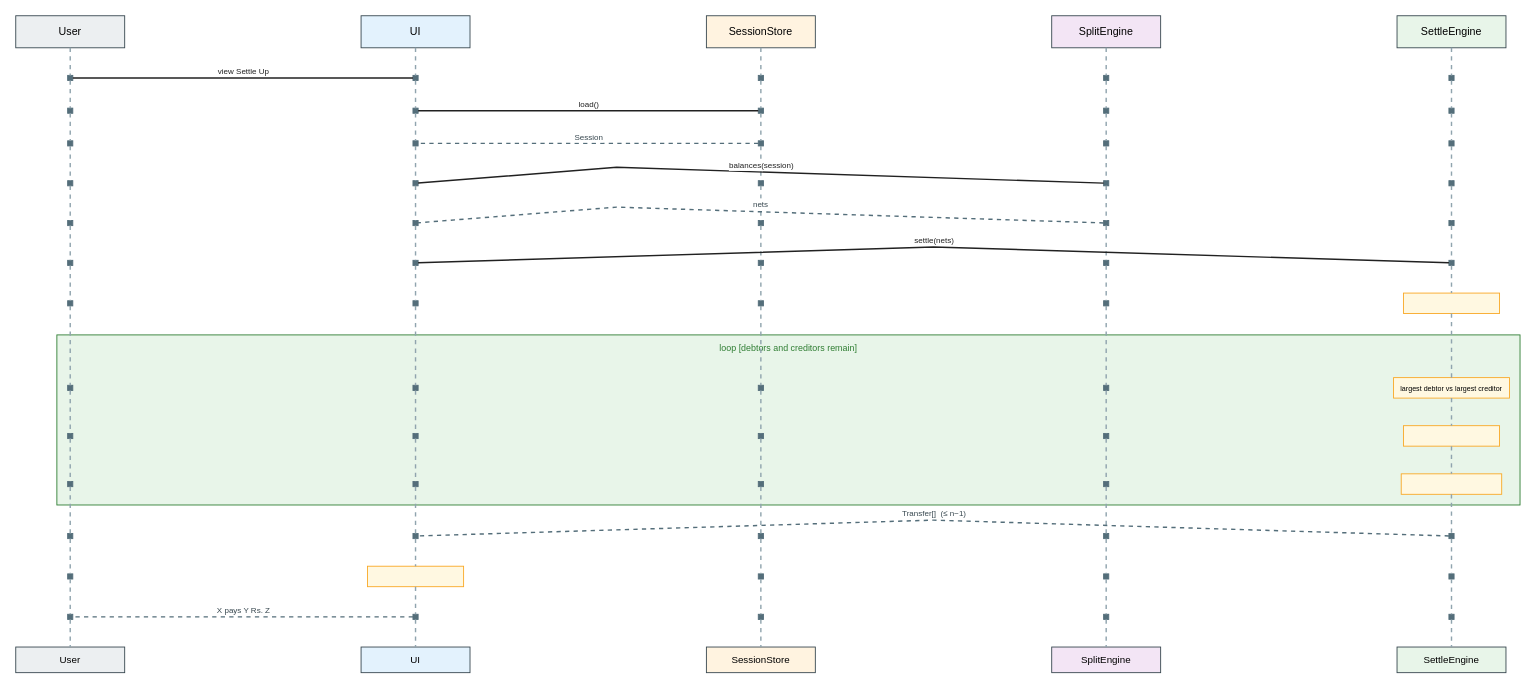
The diagram is 1536 pixels wide and 689 high, and some of its shapes have lost their labels. Here are the shapes that lost their labels. From the top down, the centre of each, then its label:
At point (1451, 303): "copy nets; drop 0-cent".
At point (1451, 435): "amt = min(|debt|, credit)".
At point (1451, 483): "emit Transfer(from, to, amt)".
At point (415, 576): "formatLkr each transfer".
